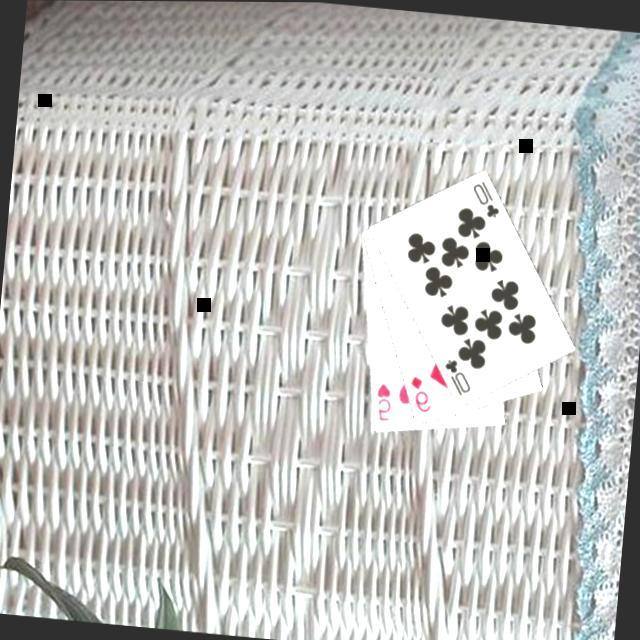10C: (468, 176, 506, 222), (440, 355, 478, 400)
5H: (372, 380, 397, 424)
6D: (406, 372, 437, 416)
